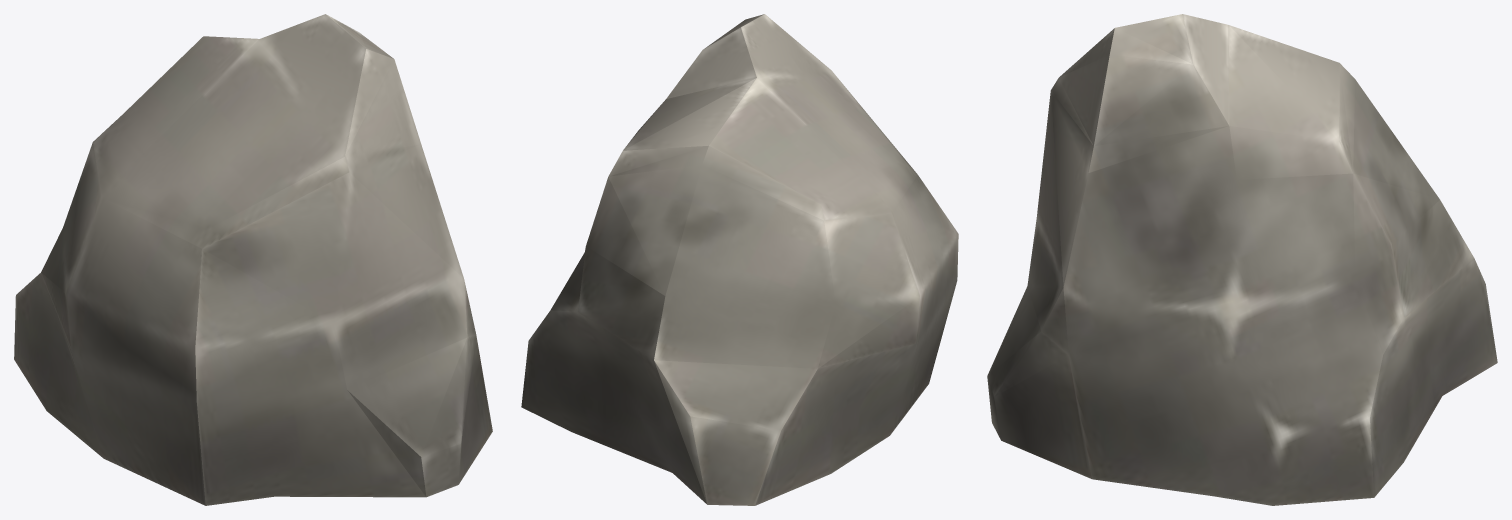
File: r32_erzpack_object_6.glb
3 renders of one model, left to right at view 1: azimuth 30°, elevation 25°; view 2: azimuth 150°, elevation 25°; view 3: azimuth 270°, elevation 25°, orthographic. The views are drawn at different scales.
Visible parts, largest first — view 1: erz_6; view 2: erz_6; view 3: erz_6.
Boxes of the visible parts, left/top/right/bottom form: erz_6: left=14, top=14, right=492, bottom=505; erz_6: left=521, top=14, right=958, bottom=505; erz_6: left=987, top=14, right=1497, bottom=505.
Bounding box in the file's own units: 0.916 × 0.8796 × 1.
Materials: 1 (1 with a texture image).
